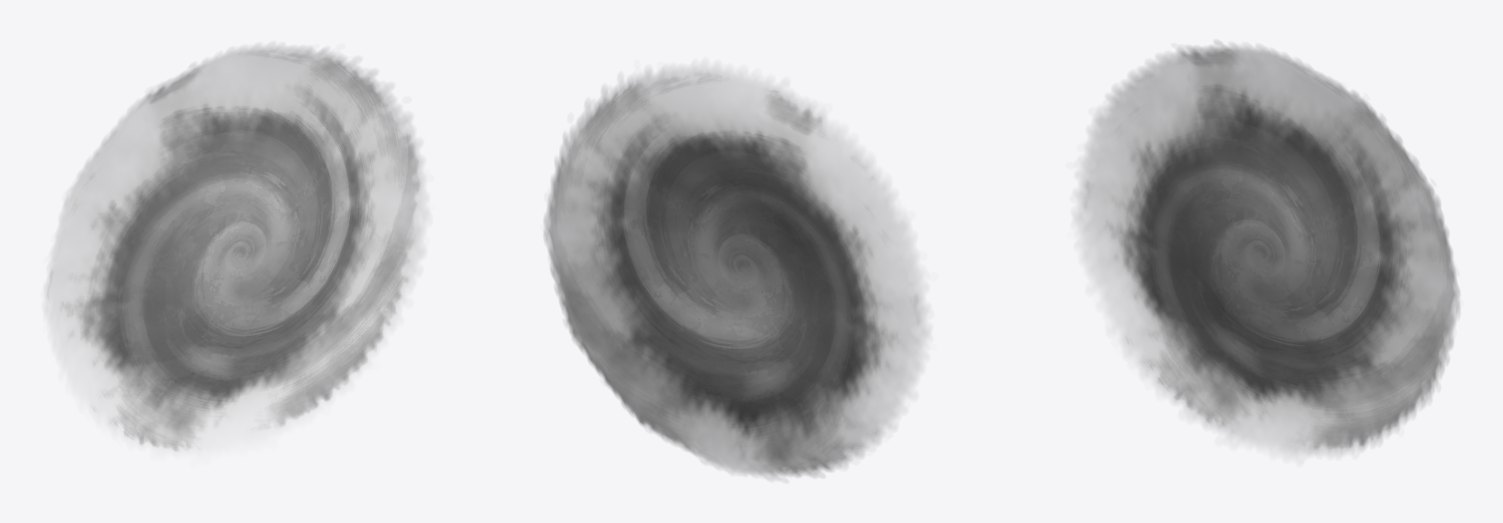
Rendered from pm-portal-effect-02.glb.
3 renders of one model, left to right at view 1: azimuth 30°, elevation 25°; view 2: azimuth 150°, elevation 25°; view 3: azimuth 330°, elevation 25°, orthographic.
Parts seen in each view (by area): view 1: PortalEffect02; view 2: PortalEffect02; view 3: PortalEffect02.
Boxes of the visible parts, box(x1,y1,x2,y2) form: PortalEffect02: box(43, 43, 430, 462); PortalEffect02: box(544, 61, 930, 480); PortalEffect02: box(1073, 41, 1459, 462).
Size of the model in its own units: 8.96 by 8.96 by 0.7109.
1 material, 1 textured.
